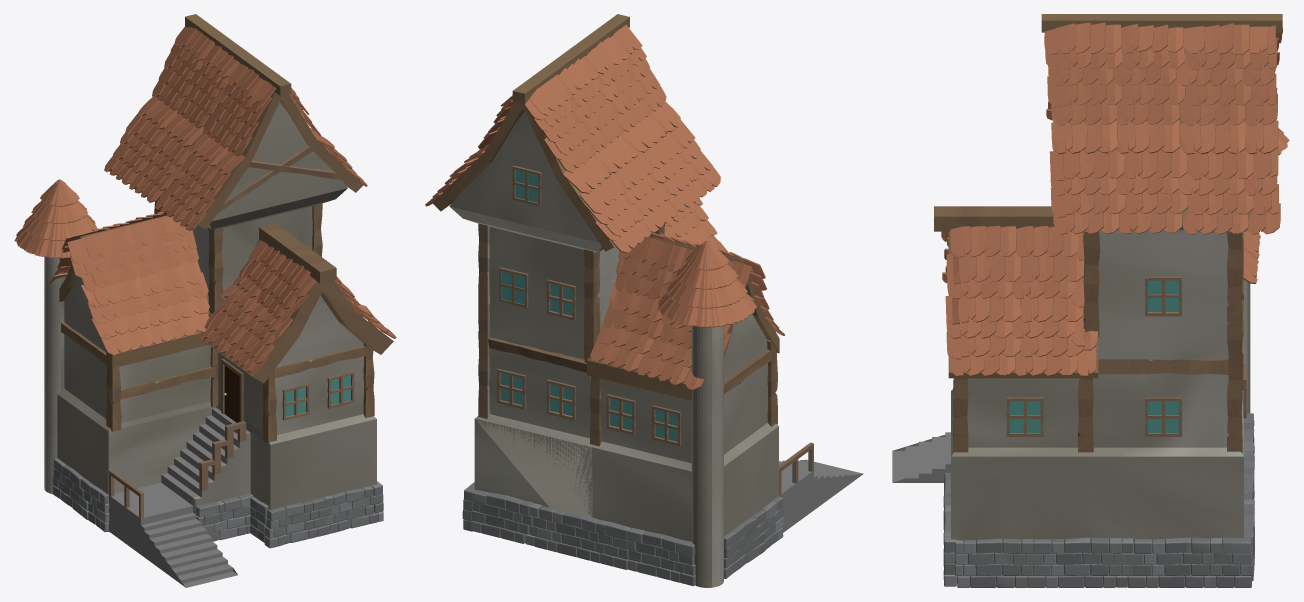
The model's file is HouseChief.fbx.
3 views of the same model, side by side, from view 1: azimuth 30°, elevation 25°; view 2: azimuth 150°, elevation 25°; view 3: azimuth 270°, elevation 25° (orthographic). The views are drawn at different scales.
Visible parts, largest first — view 1: HouseChief_LOD0; view 2: HouseChief_LOD0; view 3: HouseChief_LOD0.
Part boxes in pixels (x1,y1,x2,y2): HouseChief_LOD0: (14,14,396,587); HouseChief_LOD0: (425,14,863,587); HouseChief_LOD0: (892,14,1289,587).
Size of what is drawn, in the model's own units: 2815 by 4057 by 2738.
